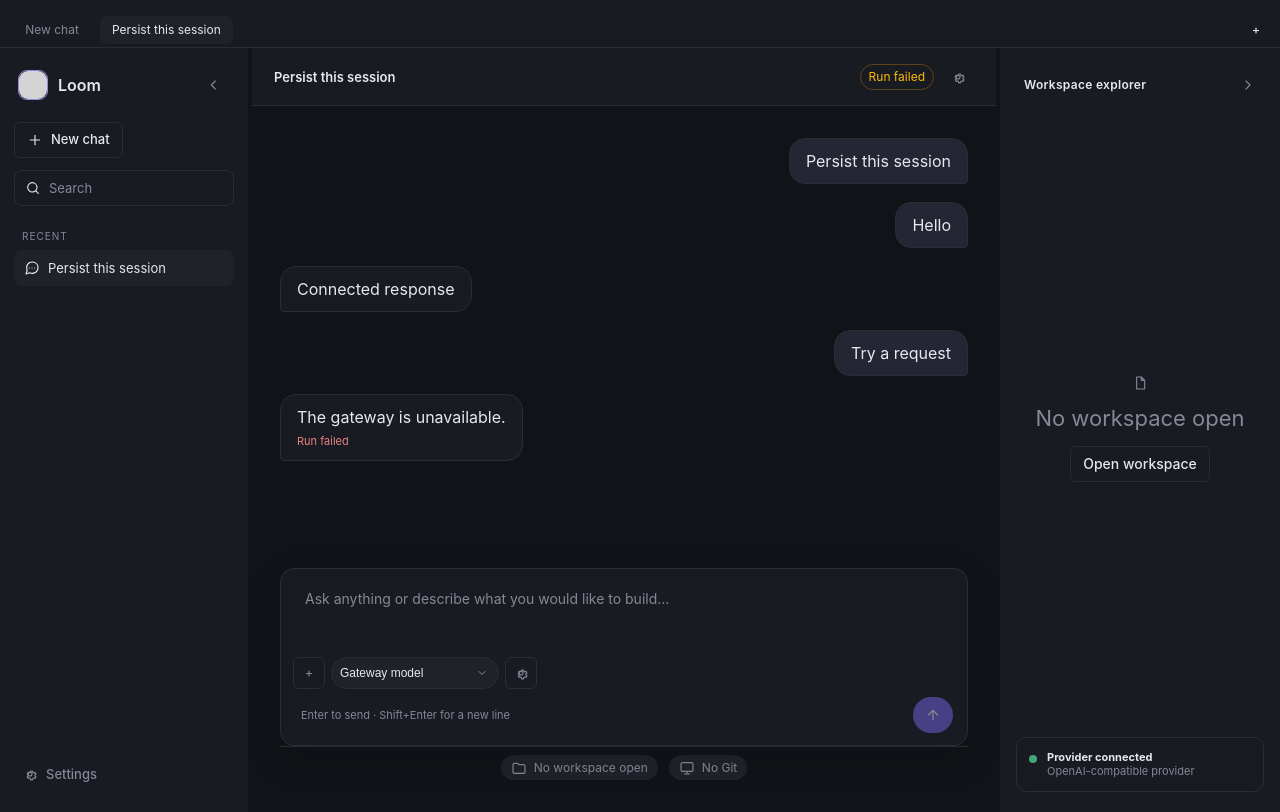
Scenario: MainUI testing › stops an active run and preserves the partial assistant response
Expected: the element "Workspace explorer" shows "Provider connected", [1047,750,1152,764]
Step 1. Type "Try this" into the text box named "Message Loom" → (624, 613), box [293,581,955,645]
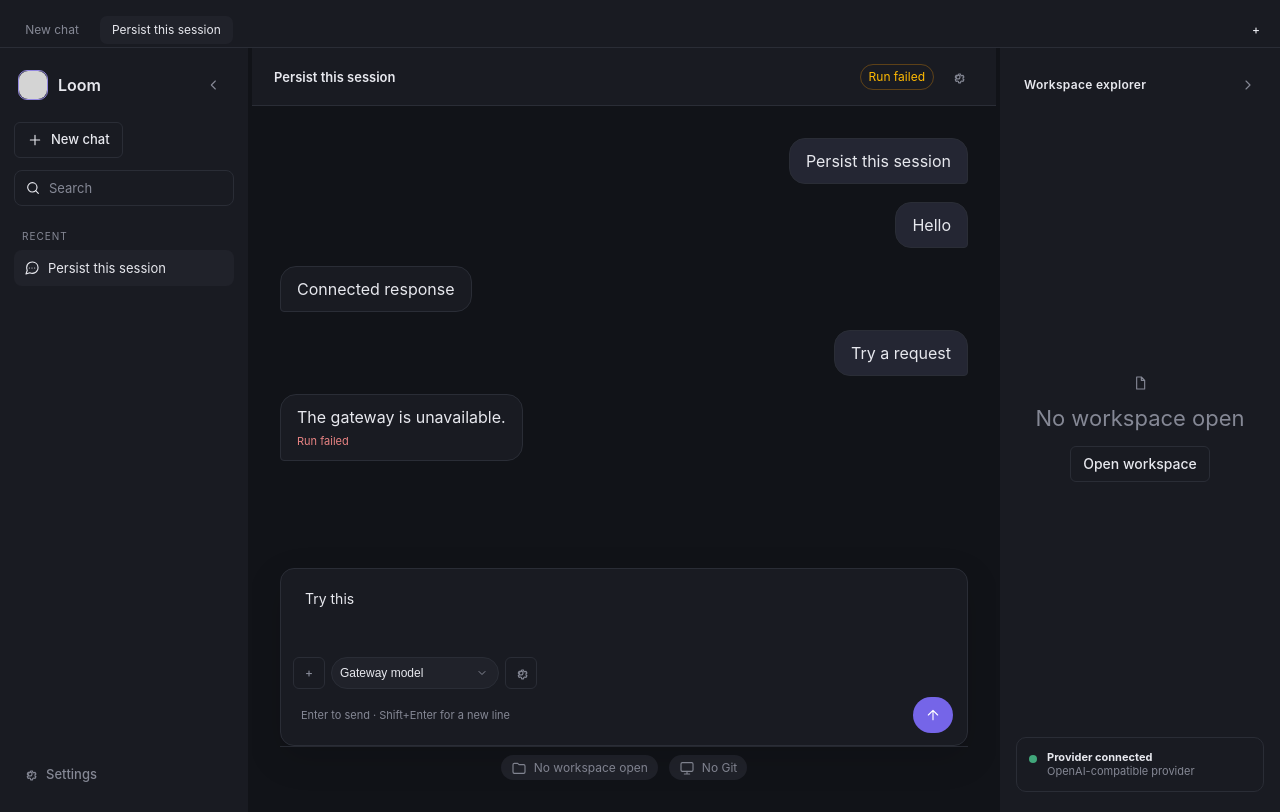
Step 2. Click the button named "Send message" → (933, 715), box [913,697,953,733]
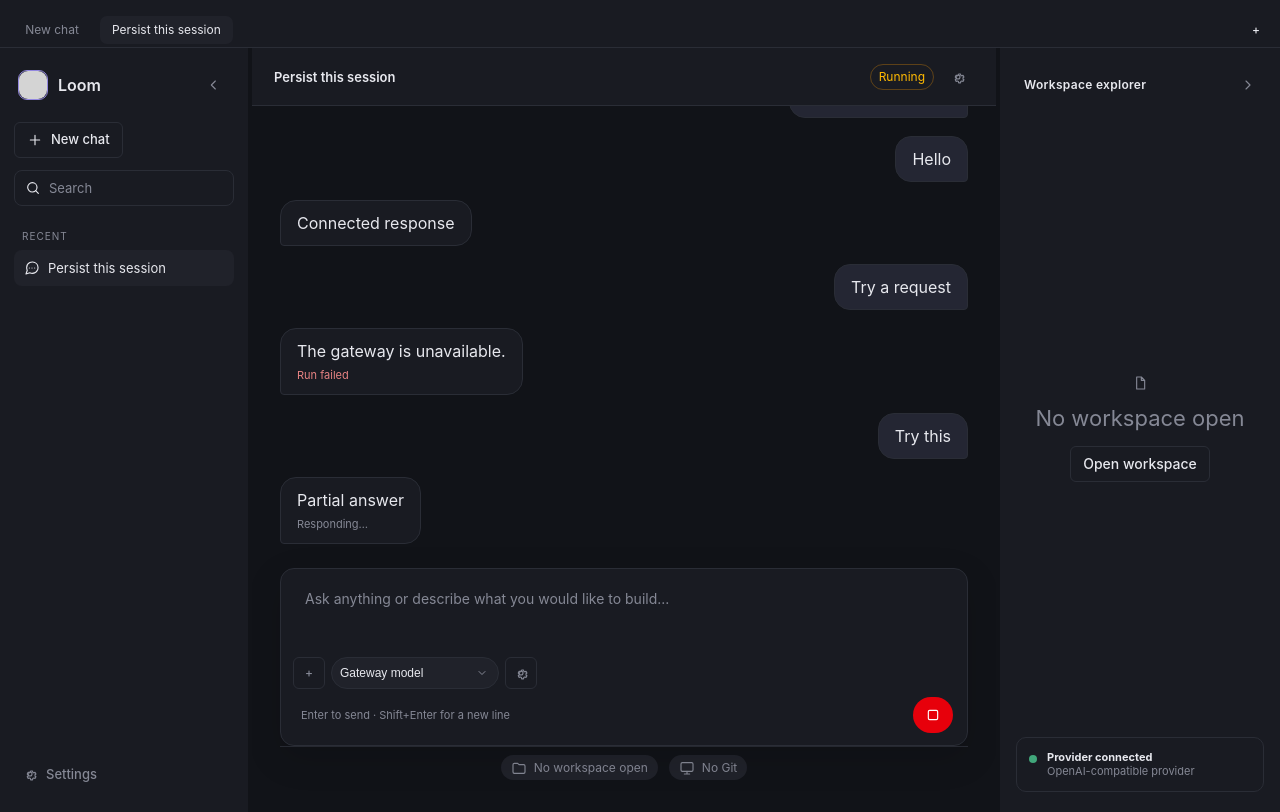
Expected: the element named "Messages" shows "Partial answer", [297,490,404,510]
Expected: the message reads "Responding…", [297,517,368,531]
Step 3. Click the button named "Stop run" → (933, 715), box [913,697,953,733]
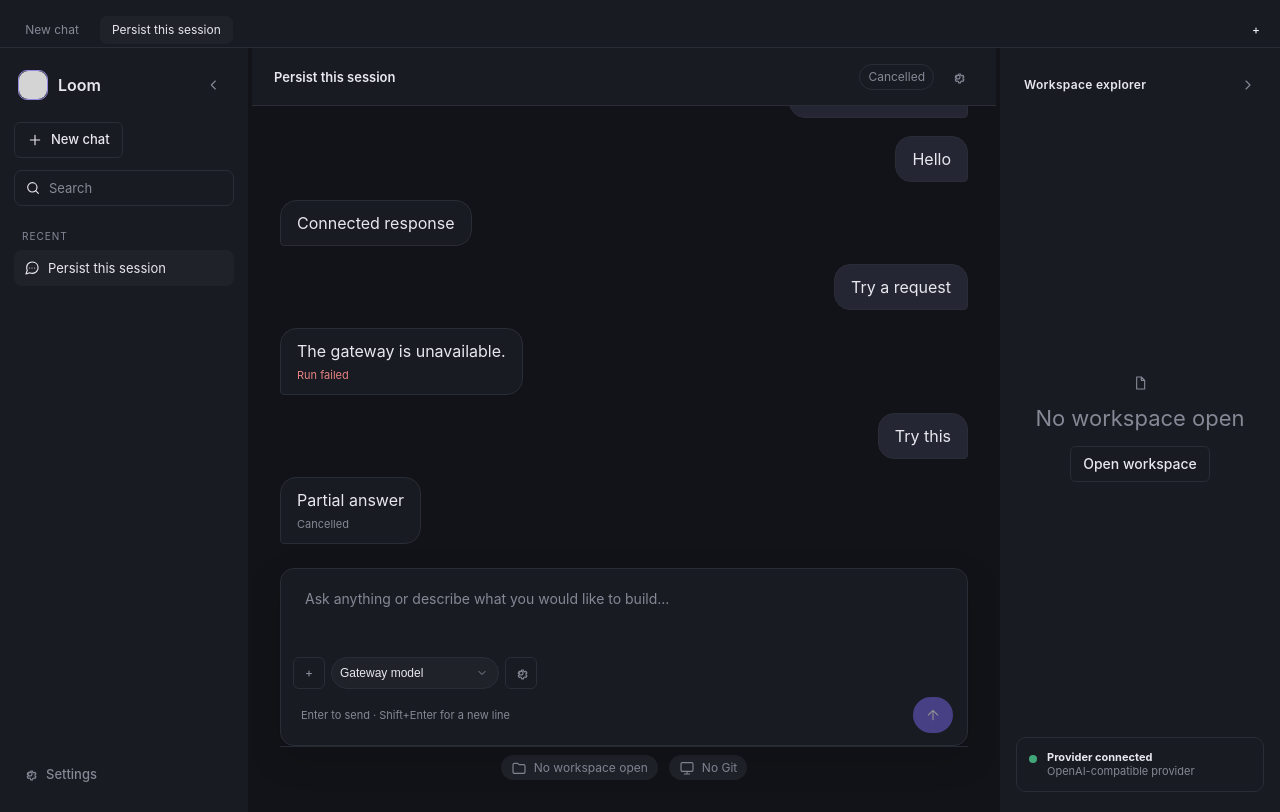
Expected: the element named "Messages" shows "Partial answer", [297,490,404,510]
Expected: the header named "Session context" shows "Cancelled", [868,68,925,84]
Expected: the element named "Messages" shows "Cancelled", [297,517,349,531]
